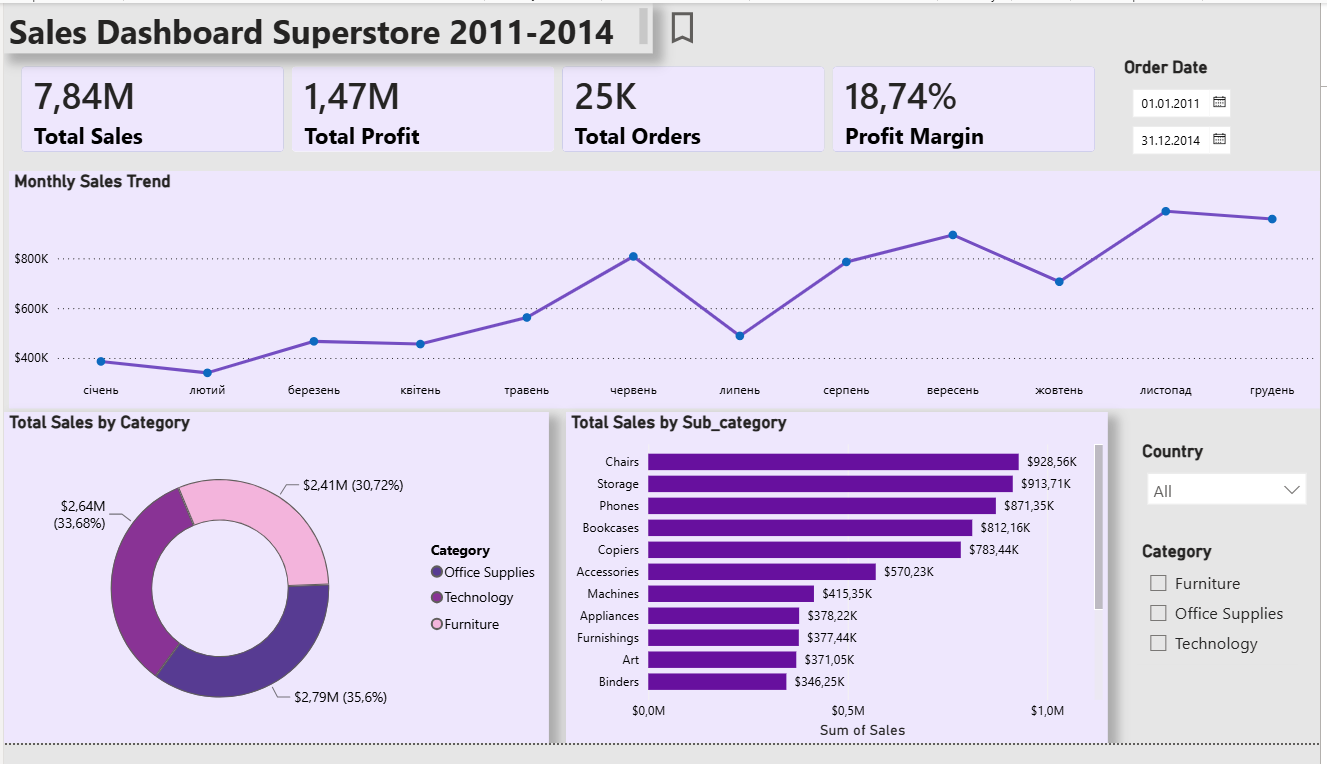

Layout of this report page (visuals, bound fields, positions):
{"tool":"powerbi","page":{"name":"KPI&Trend","canvas":[1280,720],"ordinal":0},"visuals":[{"type":"actionButton","box":[0,0,100,40],"z":0},{"type":"cardVisual","fields":{"Data":["SuperStoreOrders.Total Sales","SuperStoreOrders.Total Profit","SuperStoreOrders.Total Orders","SuperStoreOrders.Profit Margin"]},"box":[0,45.2,1079.6,117.9],"z":1000},{"type":"cardVisual","fields":{"Data":["SuperStoreOrders.Total Profit"]},"box":[606,167.3,192.6,105],"z":2000},{"type":"lineChart","title":"Monthly Sales Trend","fields":{"Y":["Sum(SuperStoreOrders.sales_number)"],"Category":["SuperStoreOrders.order_date.Варіація.Ієрархія дат.Місяць"]},"box":[4.9,163.4,1275.1,230.5],"z":4000},{"type":"slicer","title":"Country","fields":{"Values":["SuperStoreOrders.country"]},"box":[1102,426,175.1,70],"z":5000},{"type":"slicer","title":"Order Date","fields":{"Values":["SuperStoreOrders.order_date"]},"box":[1084.5,52.5,189.7,100.2],"z":6000},{"type":"textbox","box":[0,0,631.2,48.6],"z":7000},{"type":"donutChart","title":"Total  Sales by Category","fields":{"Category":["SuperStoreOrders.category"],"Y":["Sum(SuperStoreOrders.sales_number)"]},"box":[0,397.8,530.1,321.9],"z":8000},{"type":"clusteredBarChart","title":"Total Sales by Sub_category","fields":{"Category":["SuperStoreOrders.sub_category"],"Y":["Sum(SuperStoreOrders.sales_number)"]},"box":[546.6,397.8,527.2,321.9],"z":9000},{"type":"slicer","title":"Category","fields":{"Values":["SuperStoreOrders.category"]},"box":[1102,523.3,155.6,119.6],"z":10000},{"type":"actionButton","box":[640,3.9,100.2,39.9],"z":13000}]}

Visuals, with their boxes in screenshot pixels (x1, y1, x2, y2), scaled from the page's 1280x720 canvas onto the 1327x764 screenshot:
actionButton: 0,0,104,42
cardVisual - SuperStoreOrders.Total Sales x SuperStoreOrders.Total Profit: 0,48,1119,173
cardVisual - SuperStoreOrders.Total Profit: 628,178,828,289
"Monthly Sales Trend" lineChart: 5,173,1326,418
"Country" slicer: 1142,452,1324,526
"Order Date" slicer: 1124,56,1321,162
textbox: 0,0,654,52
"Total  Sales by Category" donutChart: 0,422,550,763
"Total Sales by Sub_category" clusteredBarChart: 567,422,1113,763
"Category" slicer: 1142,555,1304,682
actionButton: 664,4,767,46
